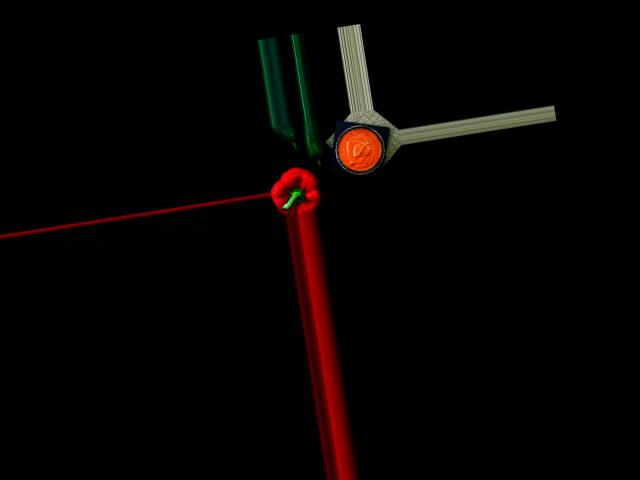bell_pepper: (268, 165, 323, 216)
